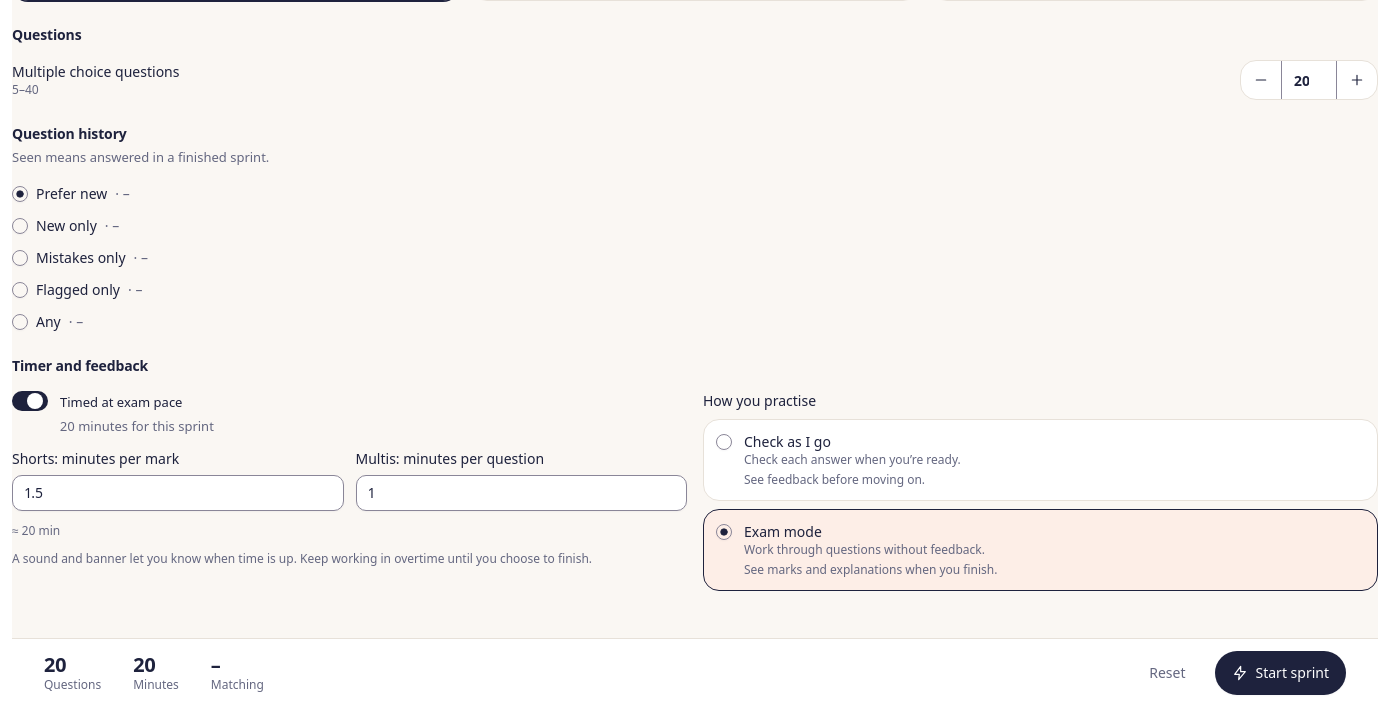
validates inline pace and clamps it on blur or when timing is disabled
(page scrolled)
Replace the text in the number field labelled "Shorts: minutes per mark" with "0" at (178,493), box x1=12 y1=475 x2=344 y2=511
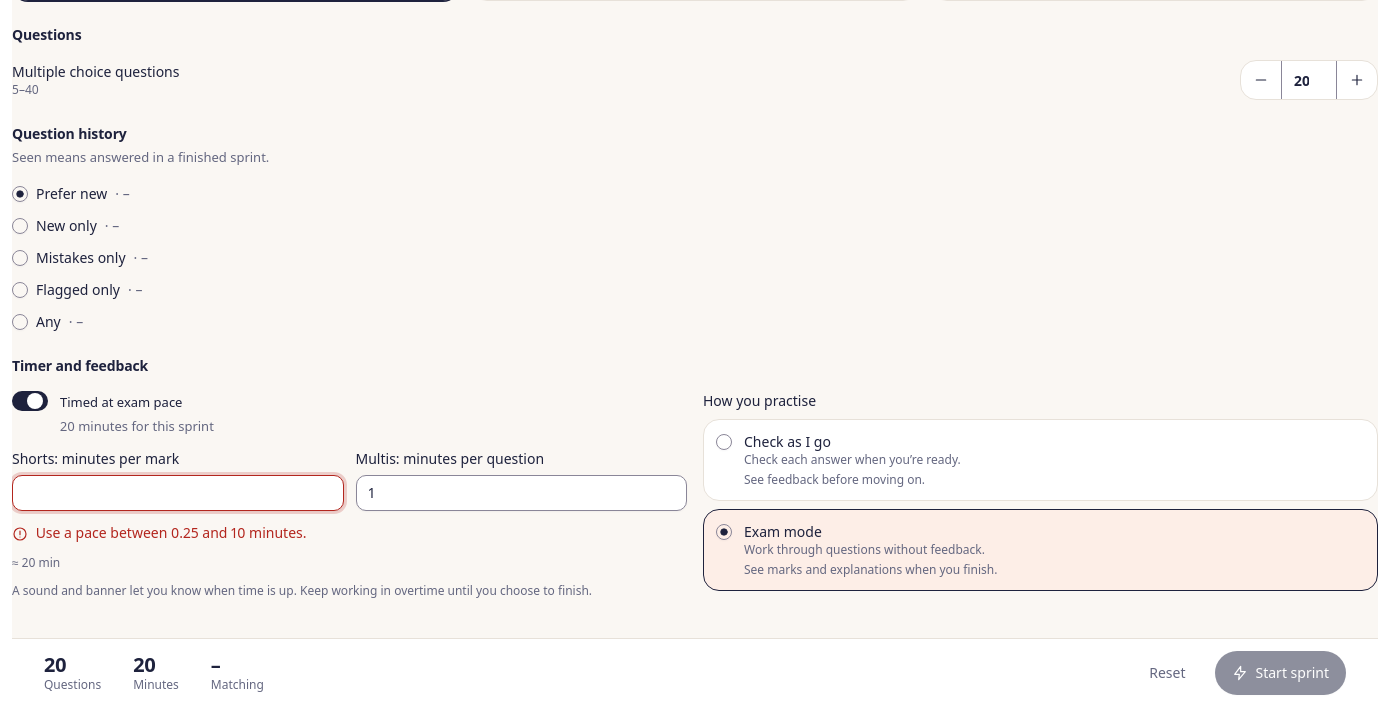
expect the message shows "between 0.25 and 10": met, box x1=32 y1=523 x2=306 y2=542
expect the button "Start sprint" is disabled: met, box x1=1214 y1=651 x2=1346 y2=695
Leave the number field labelled "Shorts: minutes per mark", box x1=12 y1=475 x2=344 y2=511
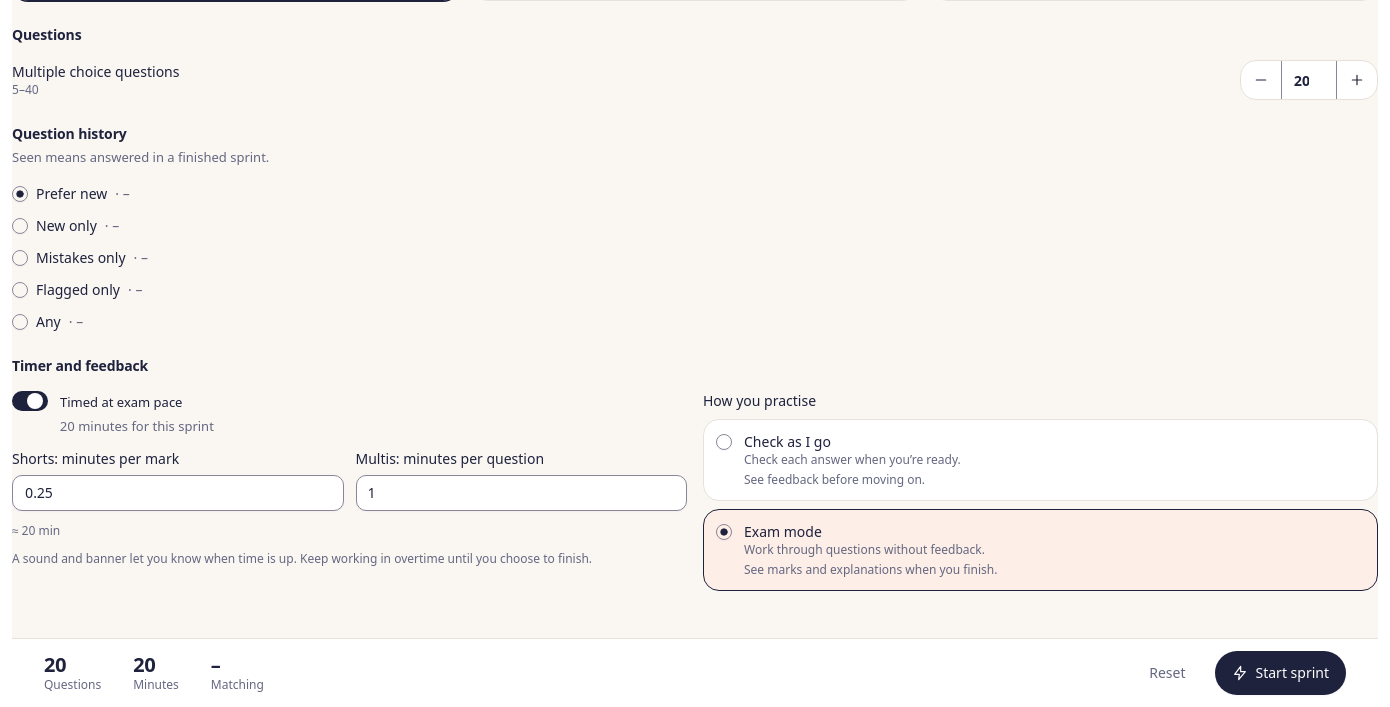
expect the number field labelled "Shorts: minutes per mark" holds "0.25": met, box x1=12 y1=475 x2=344 y2=511
expect the message "Use a pace between 0.25 and 10 minutes." is gone: met
expect the button "Start sprint" is enabled: met, box x1=1214 y1=651 x2=1346 y2=695
Replace the text in the number field labelled "Multis: minutes per question" with "11" at (521,493), box x1=356 y1=475 x2=687 y2=511
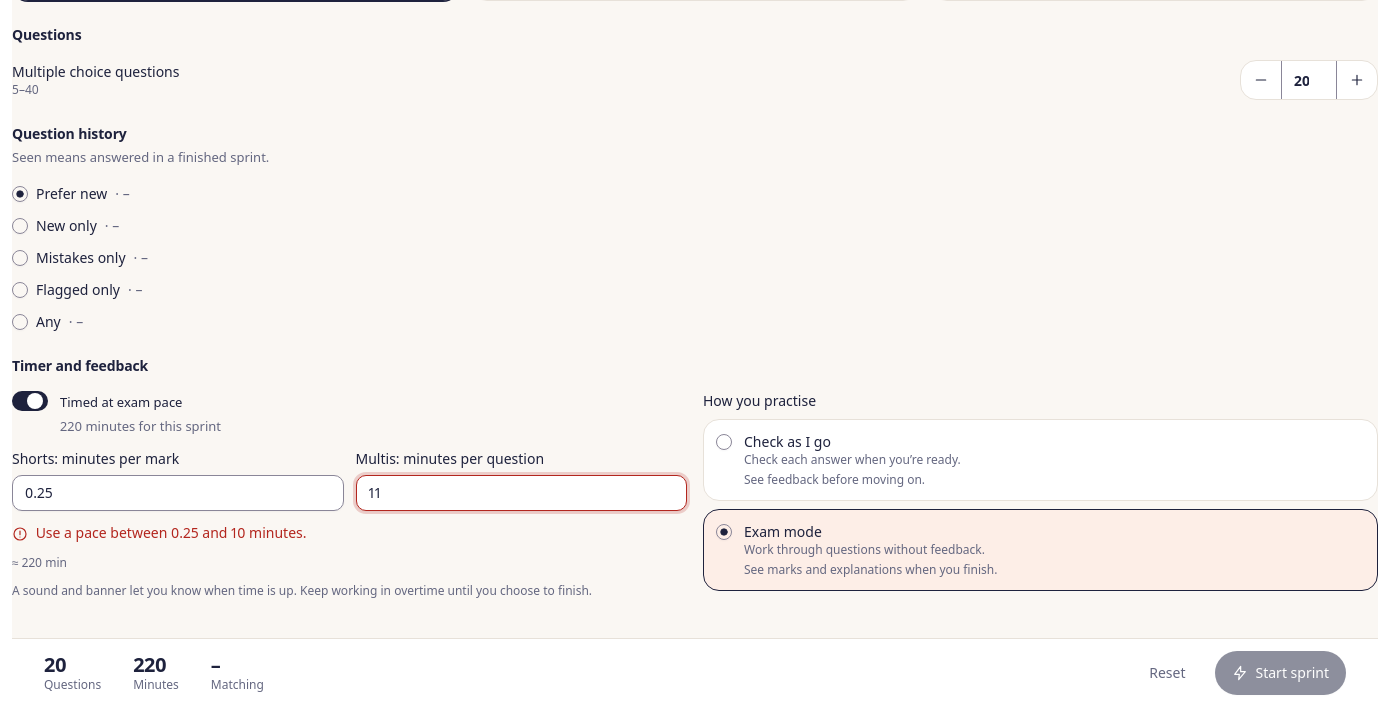
Click the switch named "Timed at exam pace" at (30,401), box x1=12 y1=391 x2=48 y2=411
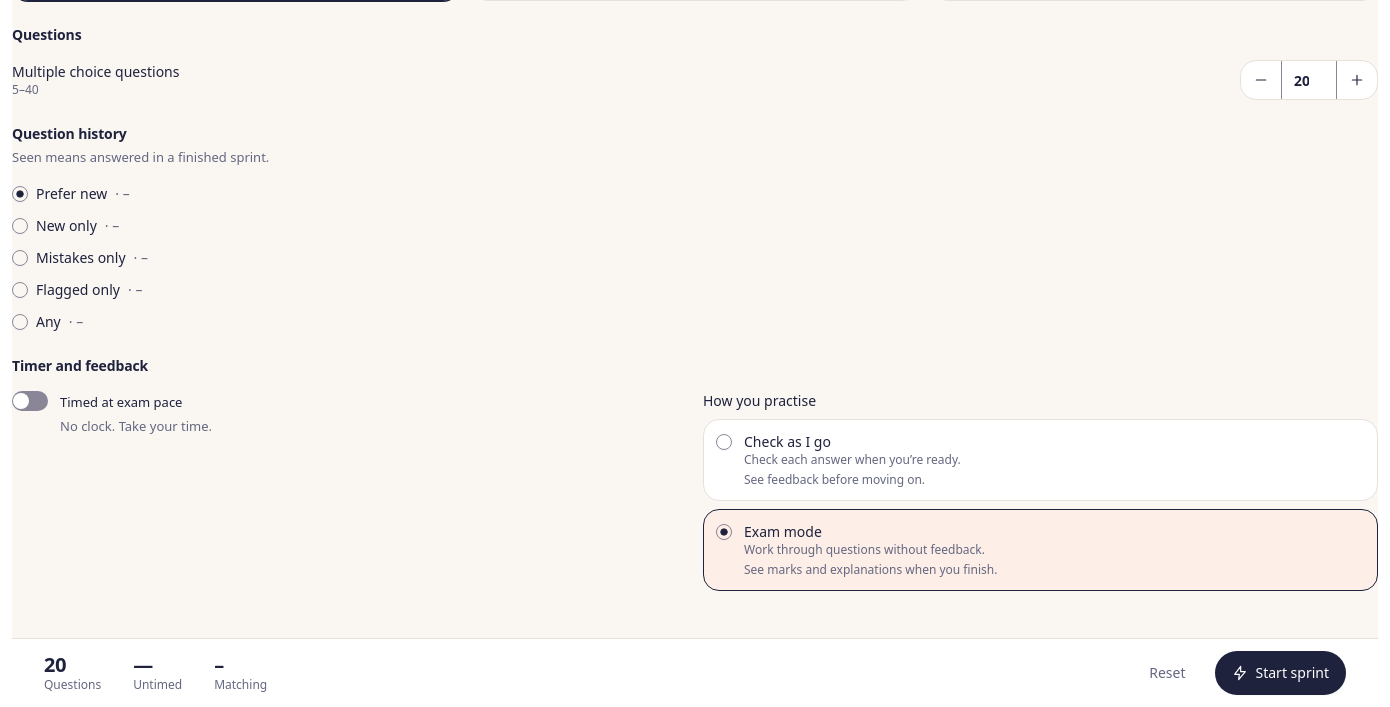
expect the button "Start sprint" is enabled: met, box x1=1214 y1=651 x2=1346 y2=695
Click the switch named "Timed at exam pace" at (30,401), box x1=12 y1=391 x2=48 y2=411
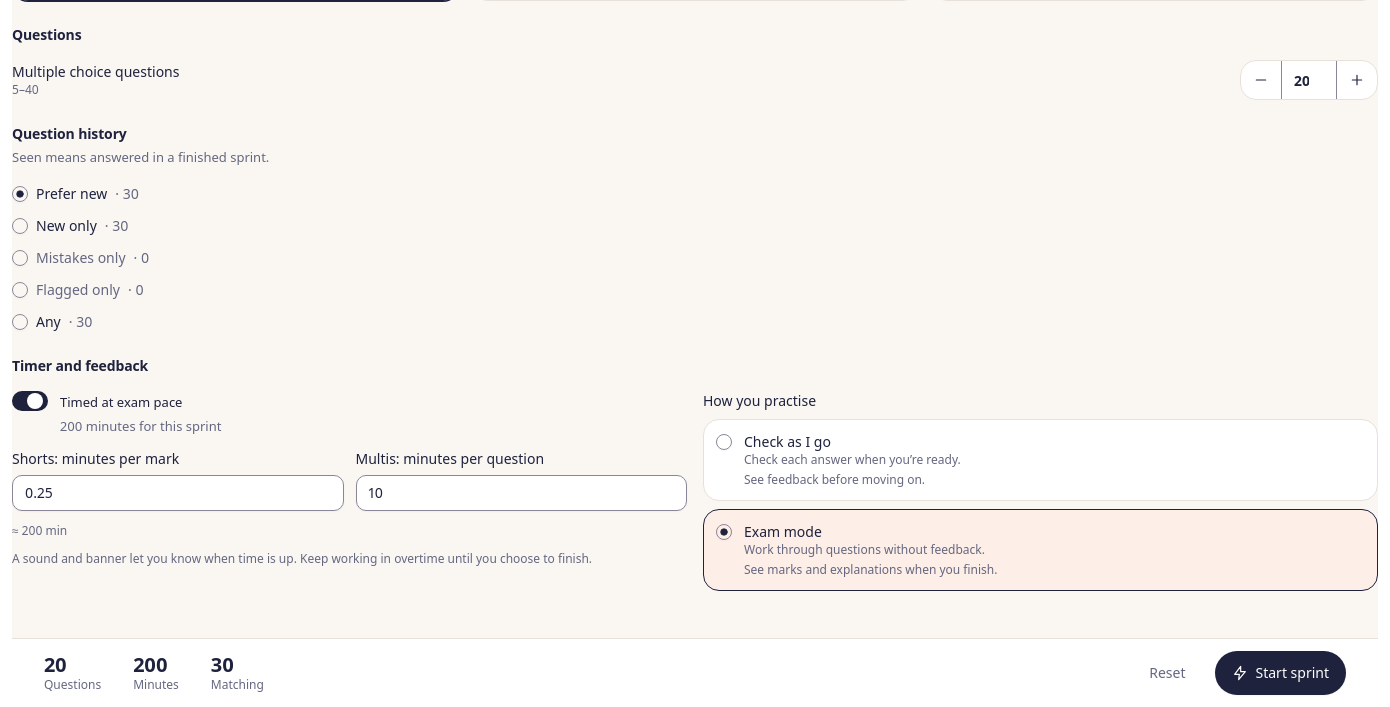
expect the number field labelled "Multis: minutes per question" holds "10": met, box x1=356 y1=475 x2=687 y2=511
